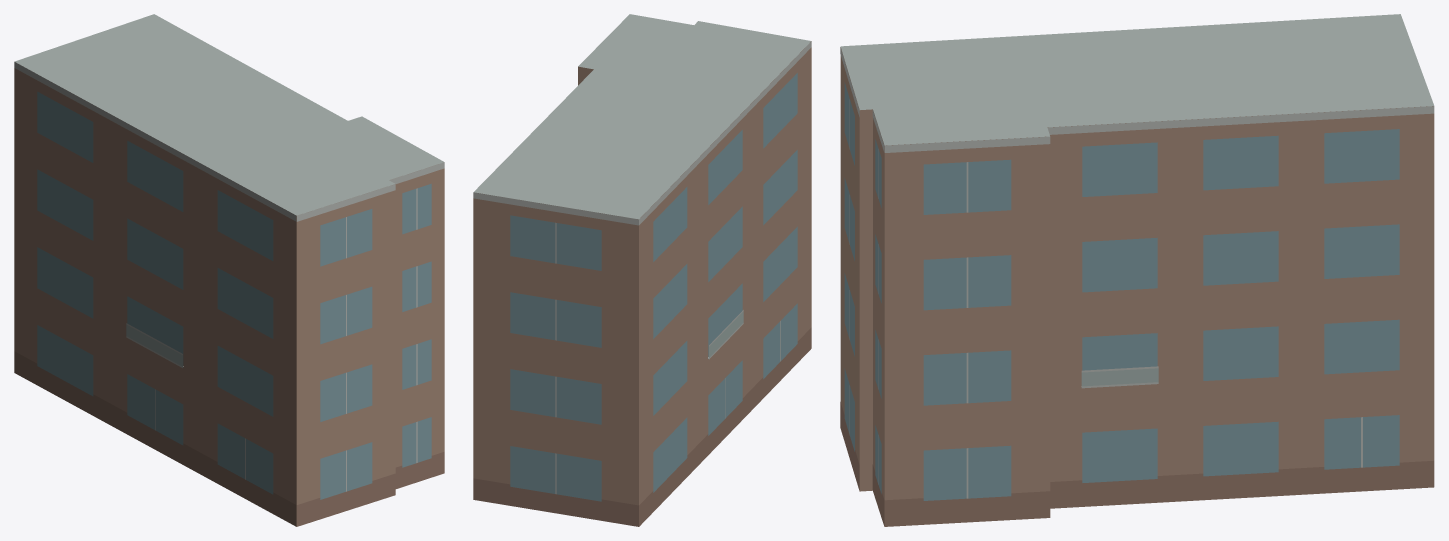
The model's file is survey-upis-32658495.glb.
The picture shows the model from 3 angles, left to right: view 1: azimuth 30°, elevation 25°; view 2: azimuth 150°, elevation 25°; view 3: azimuth 270°, elevation 25°; orthographic projection. The views are drawn at different scales.
Parts seen in each view (by area): view 1: survey-upis-32658495.tmp; view 2: survey-upis-32658495.tmp; view 3: survey-upis-32658495.tmp.
Boxes of the visible parts, x1,y1,x2,y2 form: survey-upis-32658495.tmp: (14, 14, 444, 526); survey-upis-32658495.tmp: (473, 14, 811, 526); survey-upis-32658495.tmp: (840, 14, 1434, 526).
Size of the model in its own units: 9.03 by 12.2 by 17.23.
